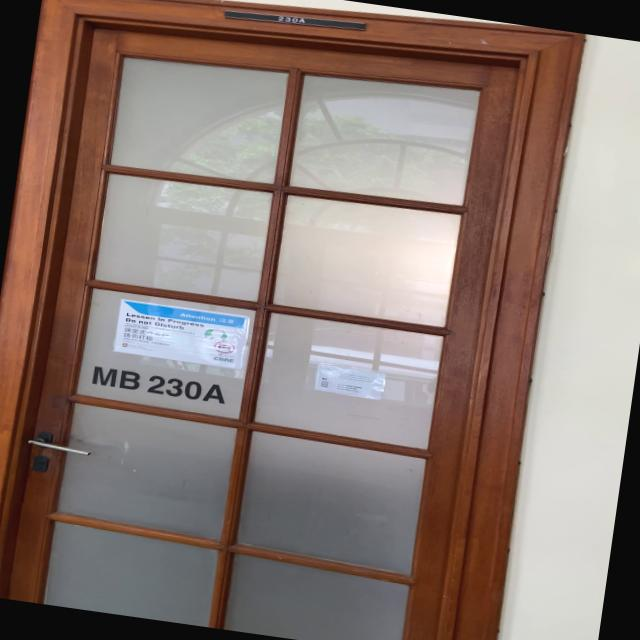room230A: (220, 1, 370, 40)
room230AWindow: (84, 361, 232, 408)
